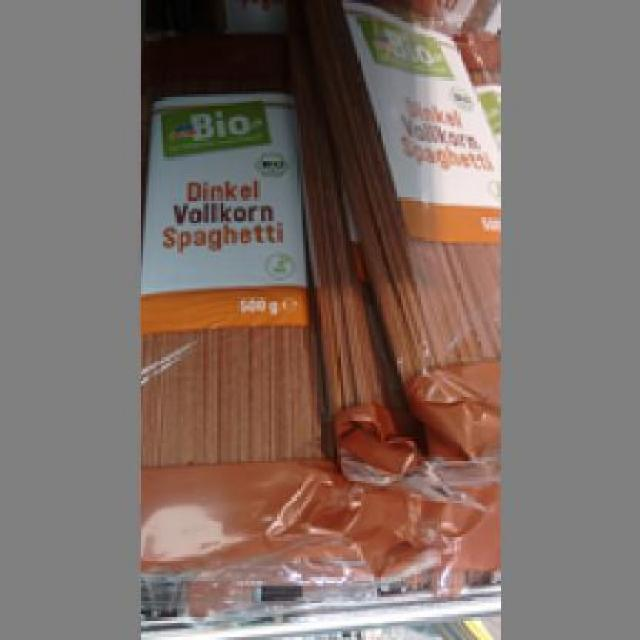Pasta: (137, 43, 323, 566), (312, 0, 498, 443)
